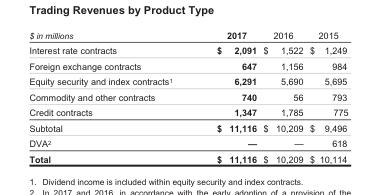table: (28, 29, 347, 163)
table column: (28, 29, 193, 163), (193, 29, 259, 163), (259, 29, 305, 163), (305, 29, 347, 163)
table column header: (28, 29, 347, 42)
table row: (28, 57, 347, 73), (28, 88, 347, 104), (28, 119, 347, 135), (28, 42, 347, 57), (28, 73, 347, 88), (28, 104, 347, 119), (28, 135, 347, 150), (28, 29, 347, 42), (28, 150, 347, 163)
